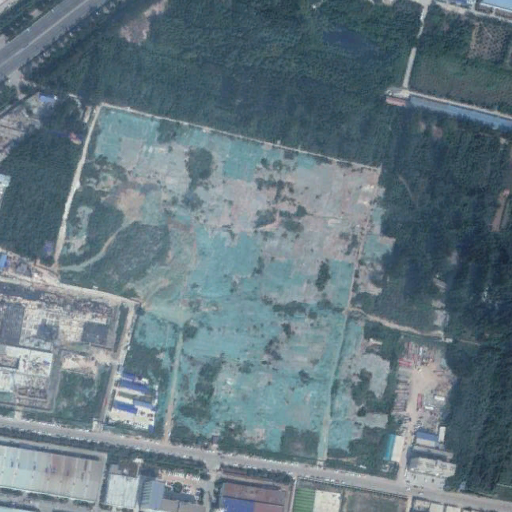cw: (59, 105, 394, 473)
